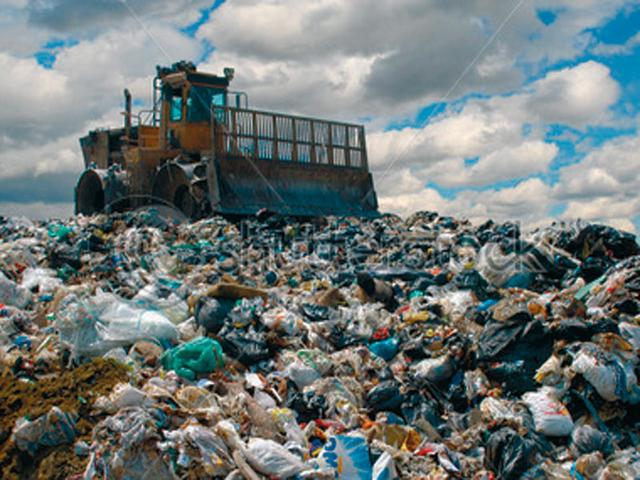garbage: (51, 301, 609, 465)
